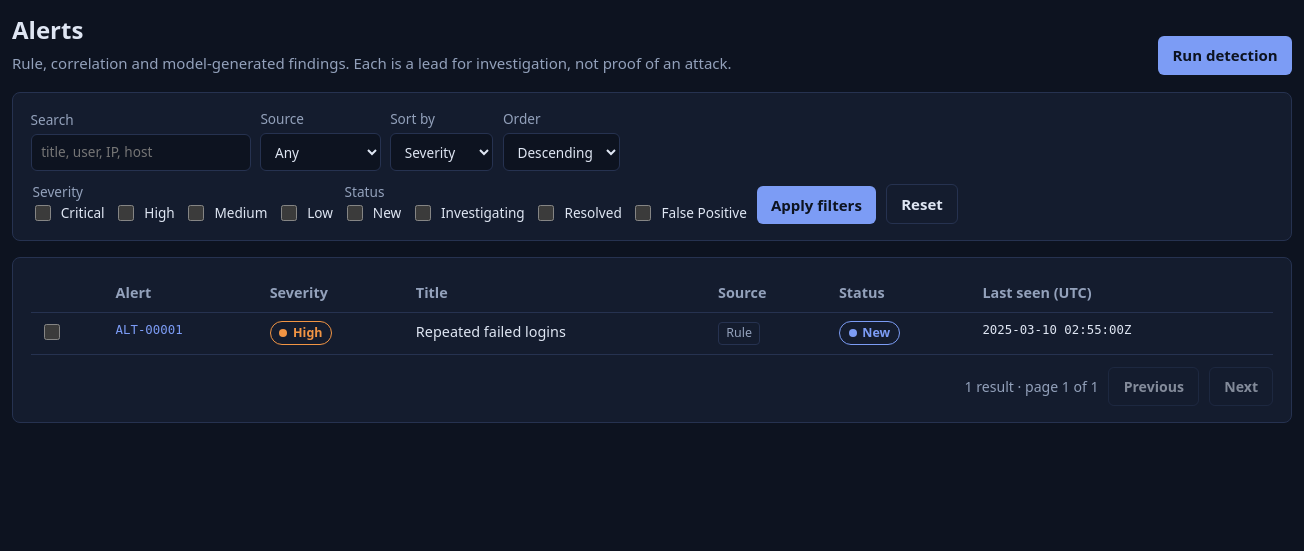
Test: Alerts page › offers incident creation for selected alerts
Click the checkbox named "Select ALT-00001" at x=52, y=332, box [44, 324, 60, 340]
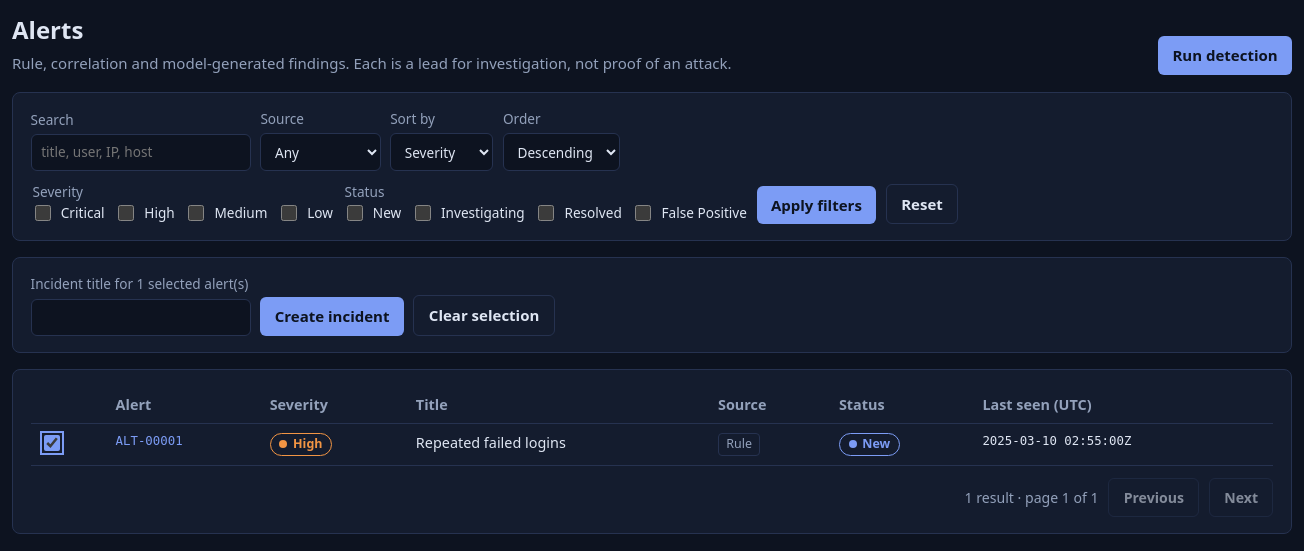
Check: the button "Create incident" is shown, box [260, 297, 404, 336]
